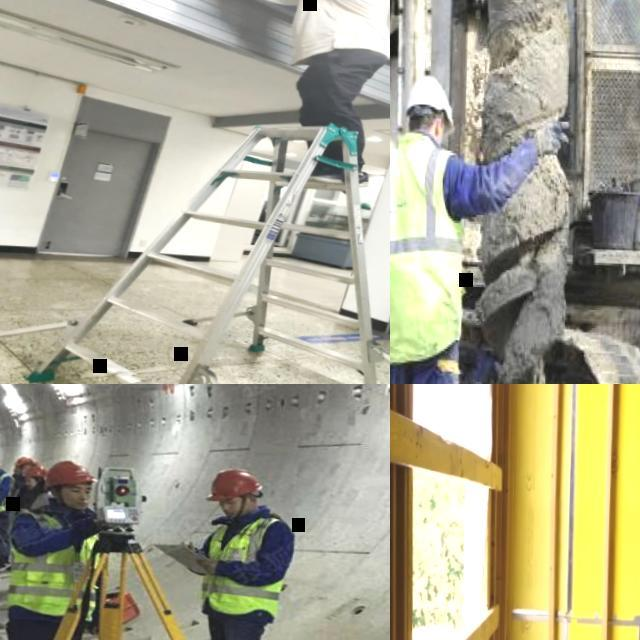Helmet: (403, 69, 468, 141), (201, 468, 270, 508), (47, 461, 97, 496), (14, 455, 50, 477)
Robbery: (390, 60, 566, 381), (164, 456, 290, 640), (12, 450, 122, 640), (277, 0, 386, 184), (3, 452, 42, 516)
